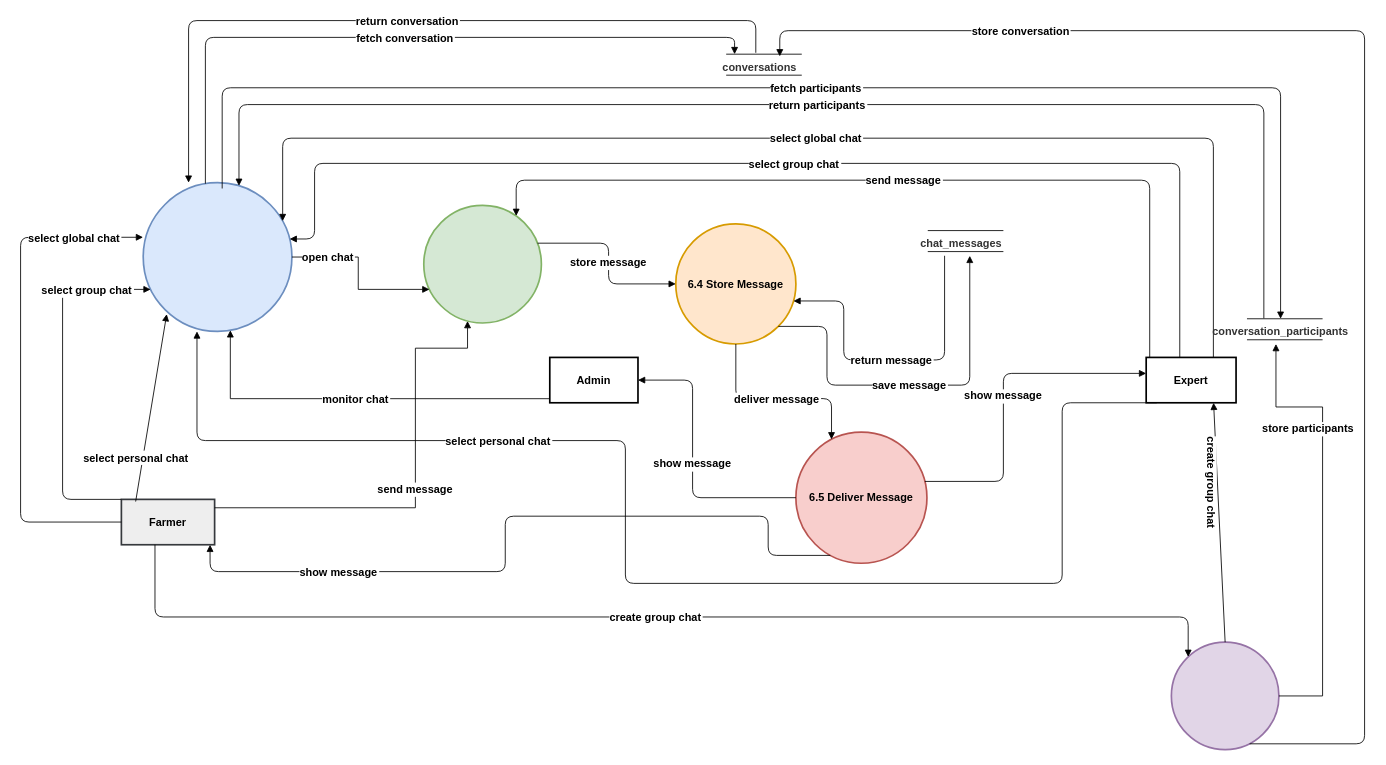
The diagram is 1386 pixels wide and 765 high, and some of its shapes have lost their labels. The centre of each missing label's shape, as x and y in pixels:
"6.1 Select Chat" goes at (217,256).
"6.2 Create Chat" goes at (1224,695).
"6.3 Send Message" goes at (482,263).
